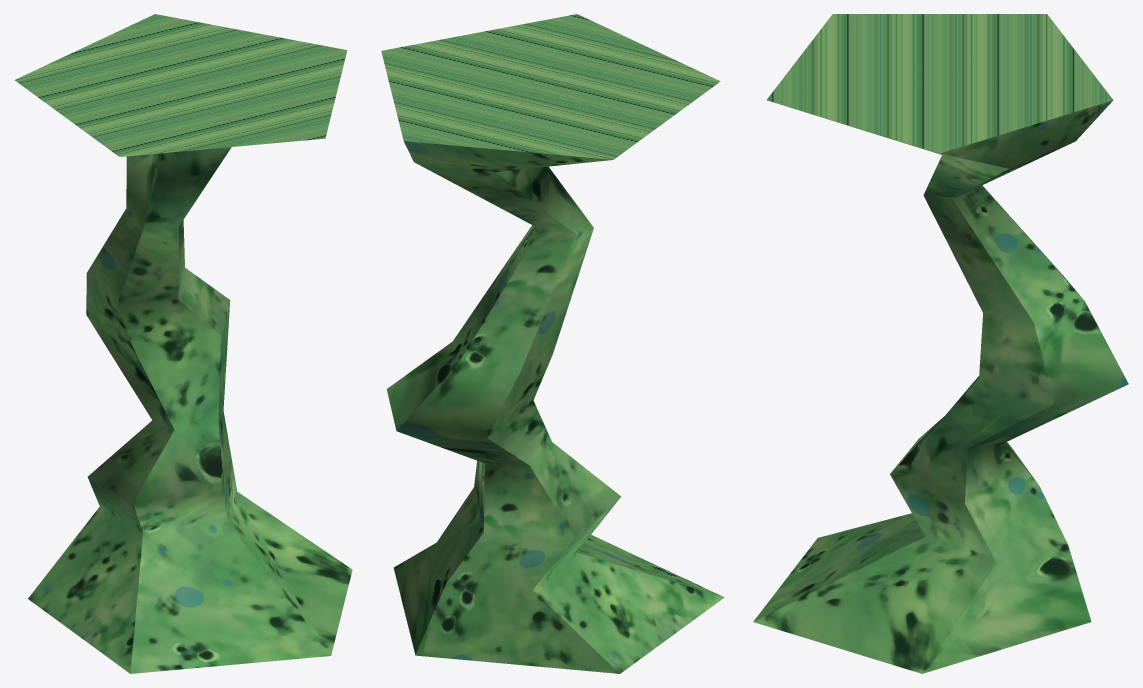
File: mooncave-column1.fbx
3 views of the same model, side by side, from view 1: azimuth 30°, elevation 25°; view 2: azimuth 150°, elevation 25°; view 3: azimuth 270°, elevation 25° (orthographic).
Visible parts, largest first — view 1: pCylinder2; view 2: pCylinder2; view 3: pCylinder2.
Part boxes in pixels (left/top/right/bottom): pCylinder2: left=14, top=14, right=352, bottom=673; pCylinder2: left=381, top=14, right=724, bottom=673; pCylinder2: left=753, top=14, right=1128, bottom=673.
Size of the model in its own units: 3.98 by 6.94 by 4.53.
Materials: 1 (1 with a texture image).
